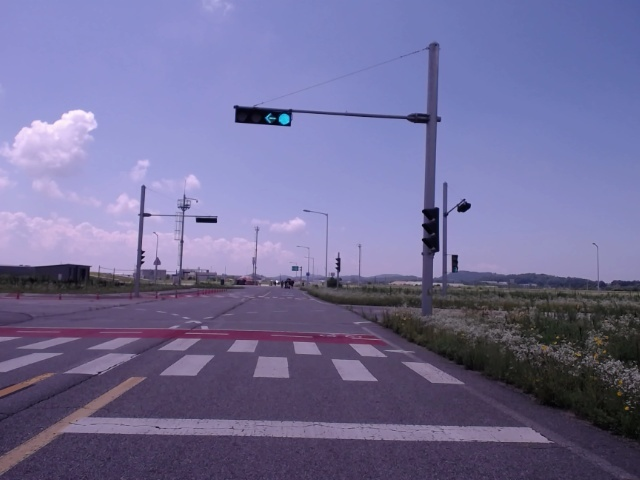all_green_4: (237, 106, 295, 128)
